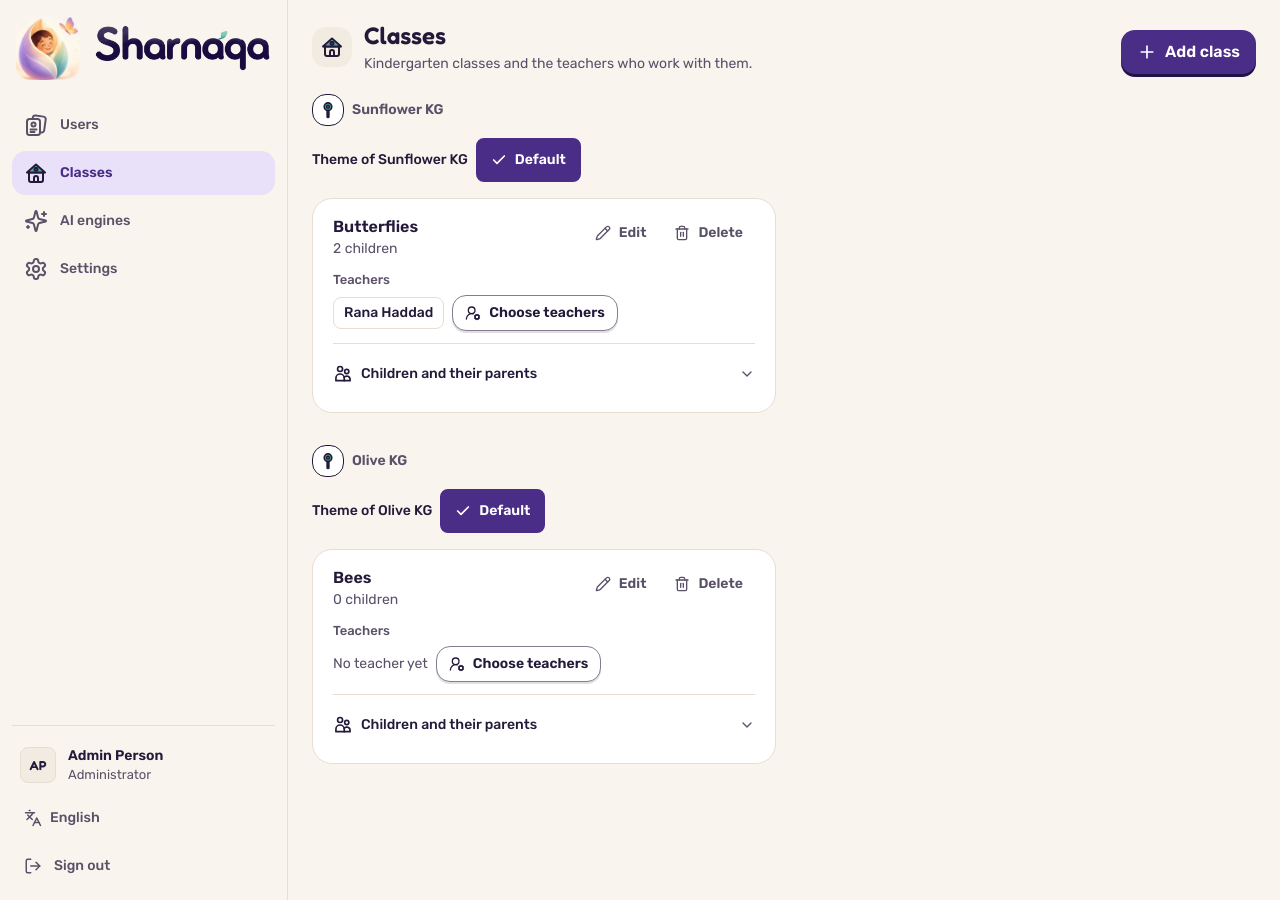
Scenario: ClassesPage › explains why a class with children can't be deleted
The image size is (1280, 900).
Click the button "Delete" in the row of "Butterflies": (709, 233) [662,215,755,251]
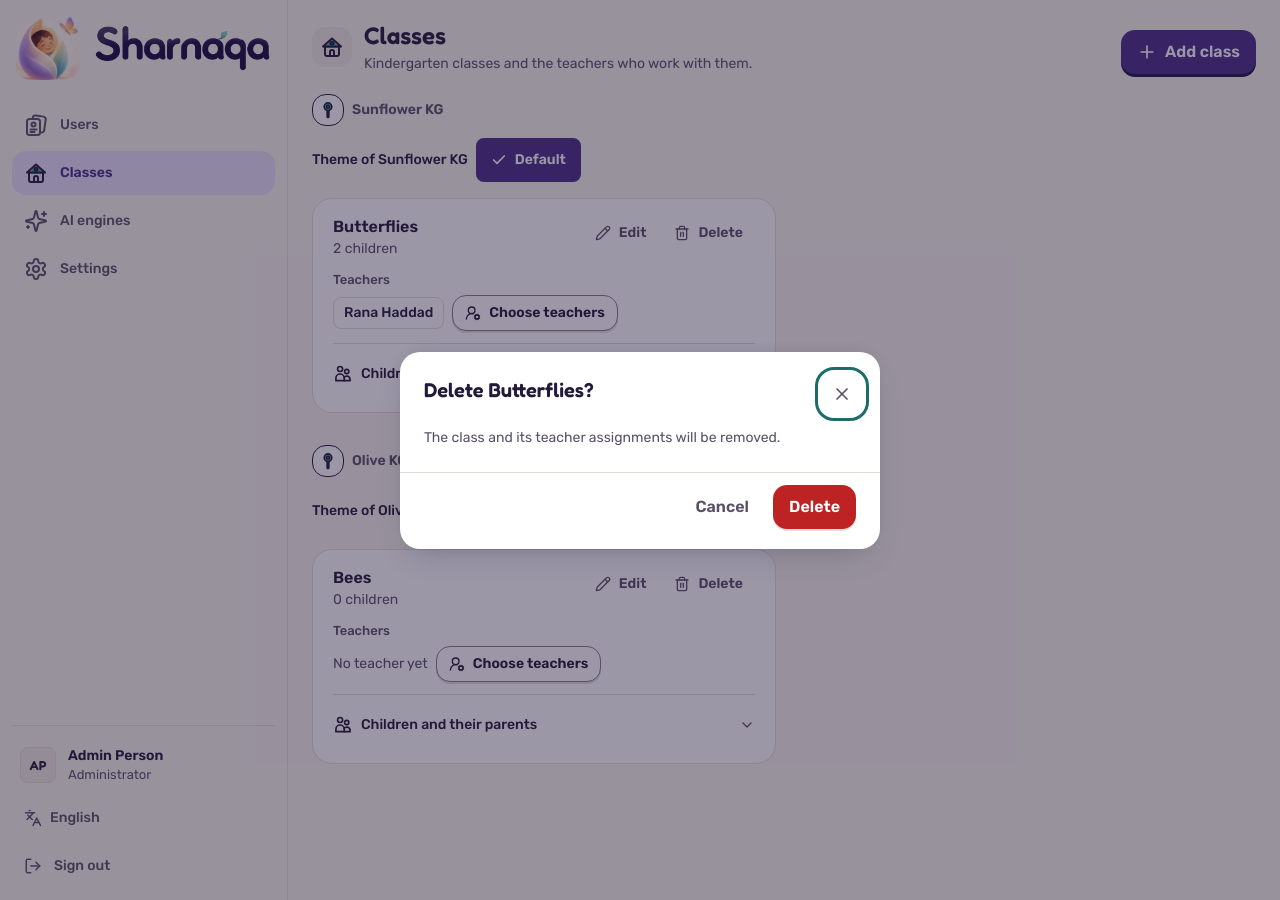
Click the button "Delete": (814, 506) [773,484,856,528]
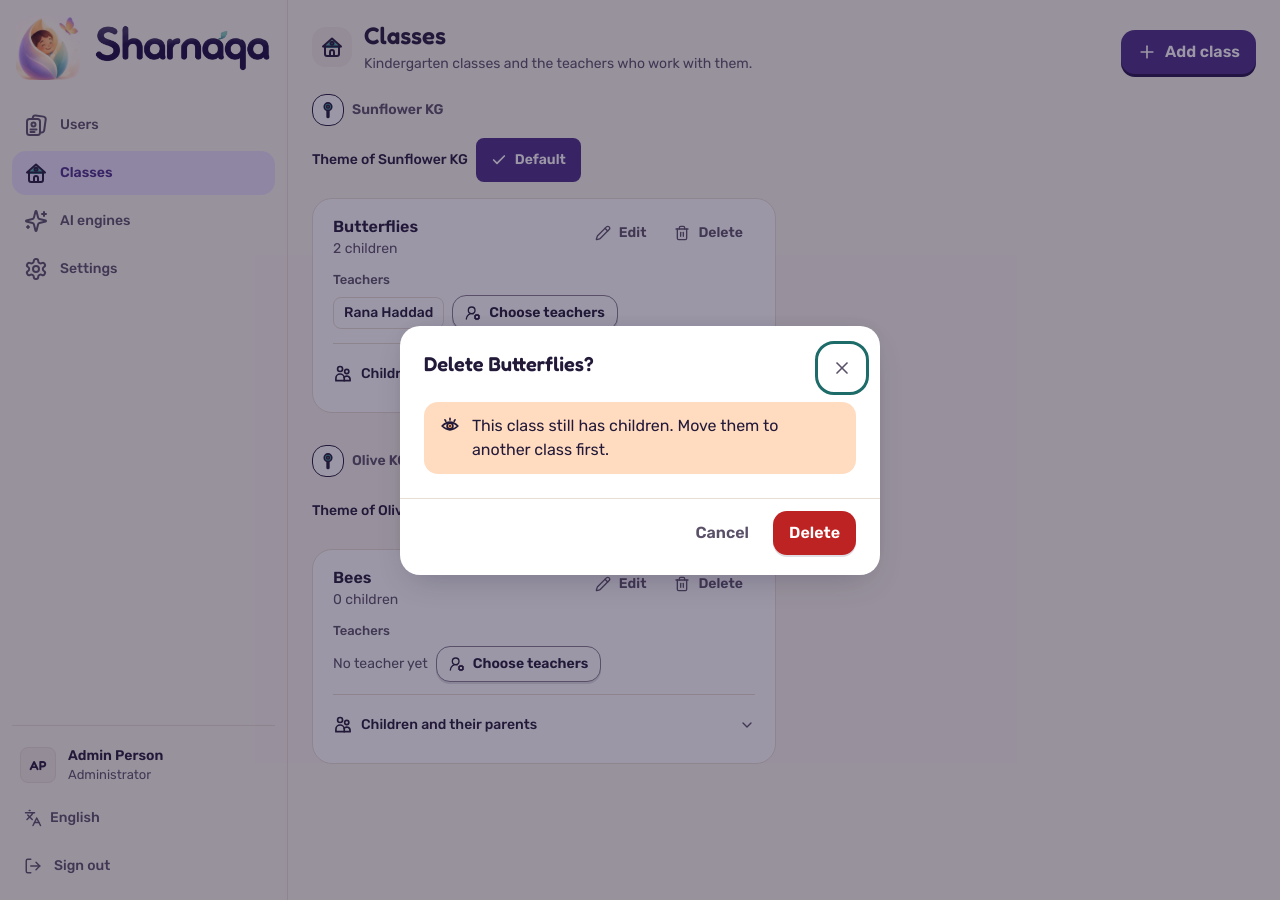
Now the text "This class still has children. Move them to another class first." is shown, box [472,416,778,458]
